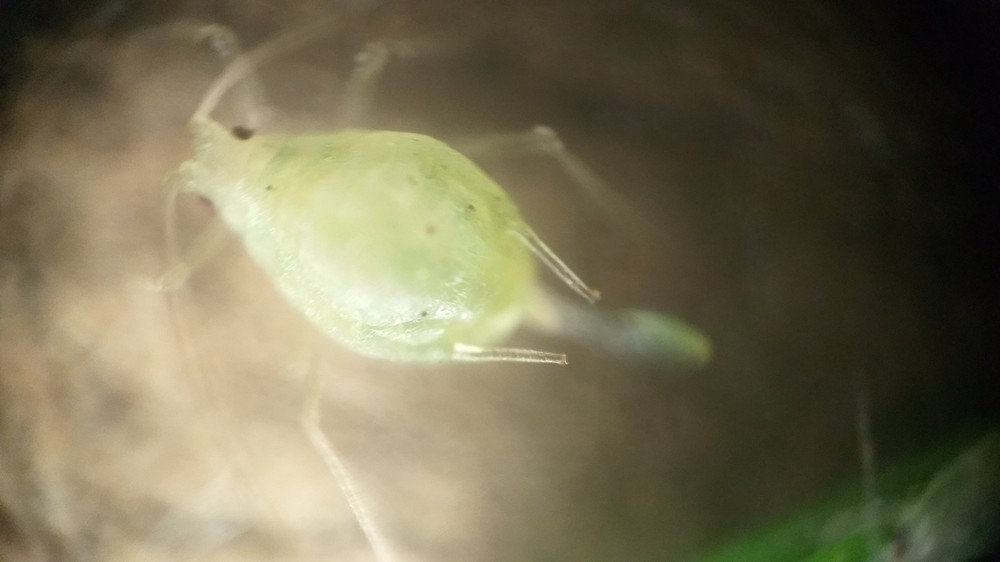Pulgon: (126, 3, 754, 464)
